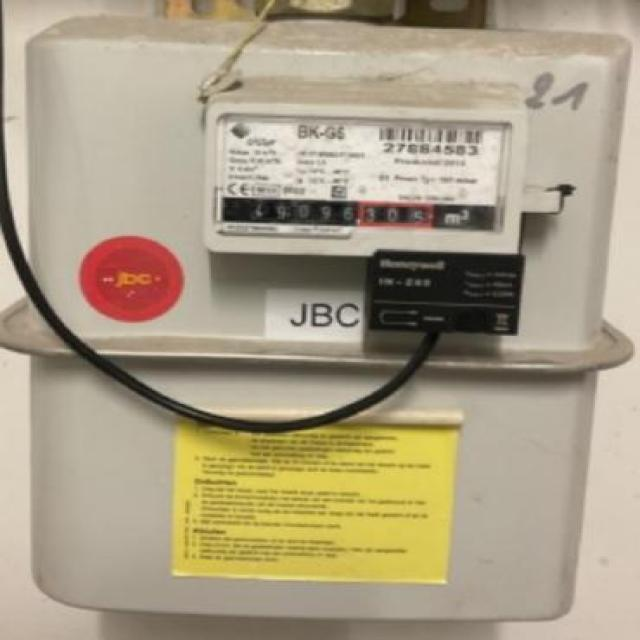gaz_meter: (217, 112, 508, 234)
indication: (228, 196, 431, 229)
